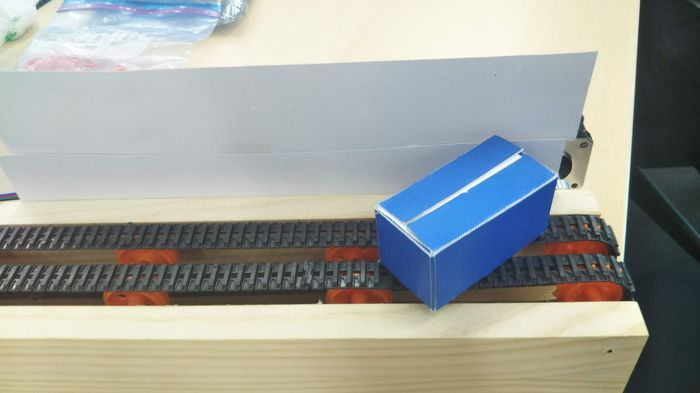box3: (371, 131, 557, 312)
